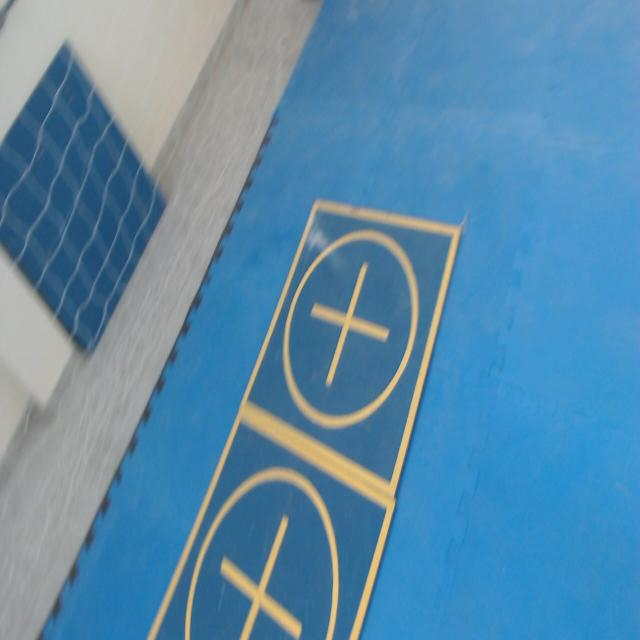base_pouso: (241, 197, 464, 502), (149, 410, 396, 639)
